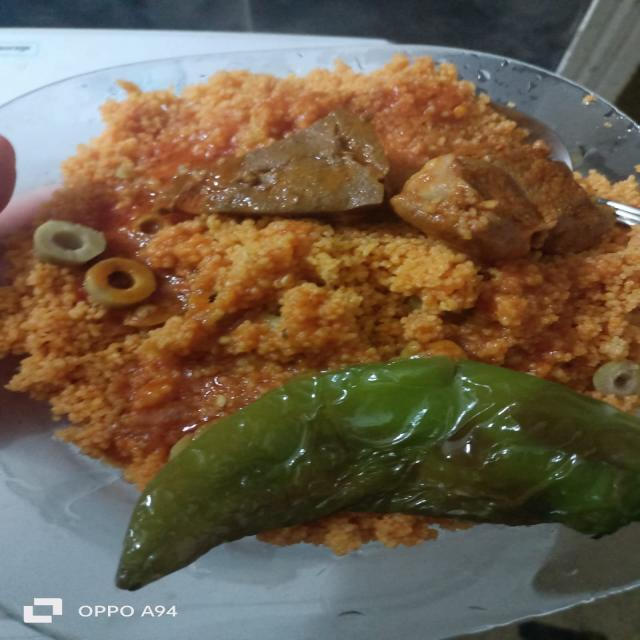Couscous: (19, 79, 640, 535)
